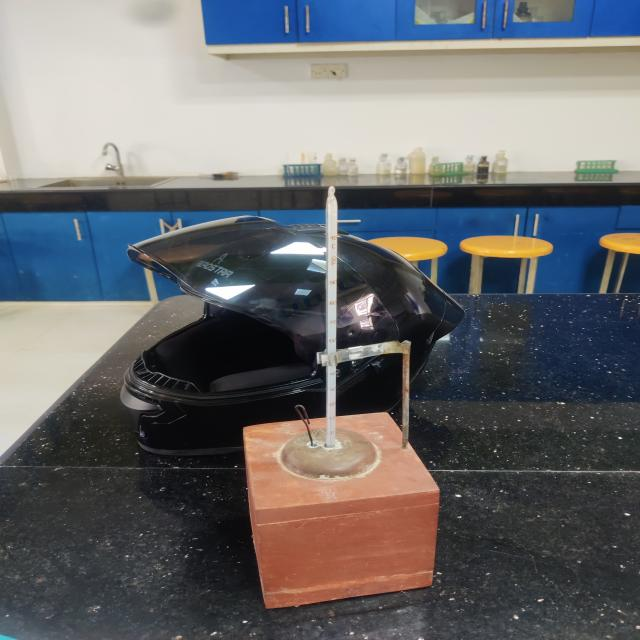Calorimeter: (180, 154, 468, 627)
